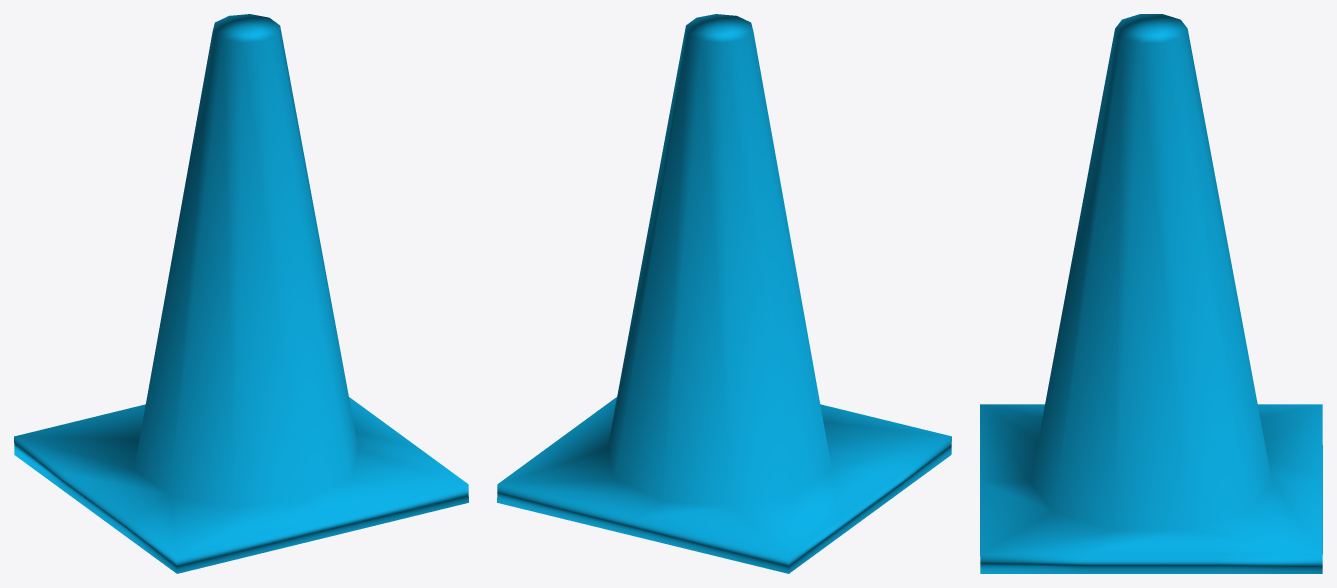
Rendered from Traffic_Cone_01_Lod0.fbx.
3 renders of one model, left to right at view 1: azimuth 30°, elevation 25°; view 2: azimuth 150°, elevation 25°; view 3: azimuth 270°, elevation 25°, orthographic. The views are drawn at different scales.
Visible parts, largest first — view 1: Traffic_Cone_01_Lod0; view 2: Traffic_Cone_01_Lod0; view 3: Traffic_Cone_01_Lod0.
Part boxes in pixels (box(x1,y1,x2,y2)): Traffic_Cone_01_Lod0: box(14, 14, 468, 573); Traffic_Cone_01_Lod0: box(497, 14, 951, 573); Traffic_Cone_01_Lod0: box(980, 14, 1322, 573).
Bounding box in the file's own units: 31.57 × 46.37 × 30.46.
